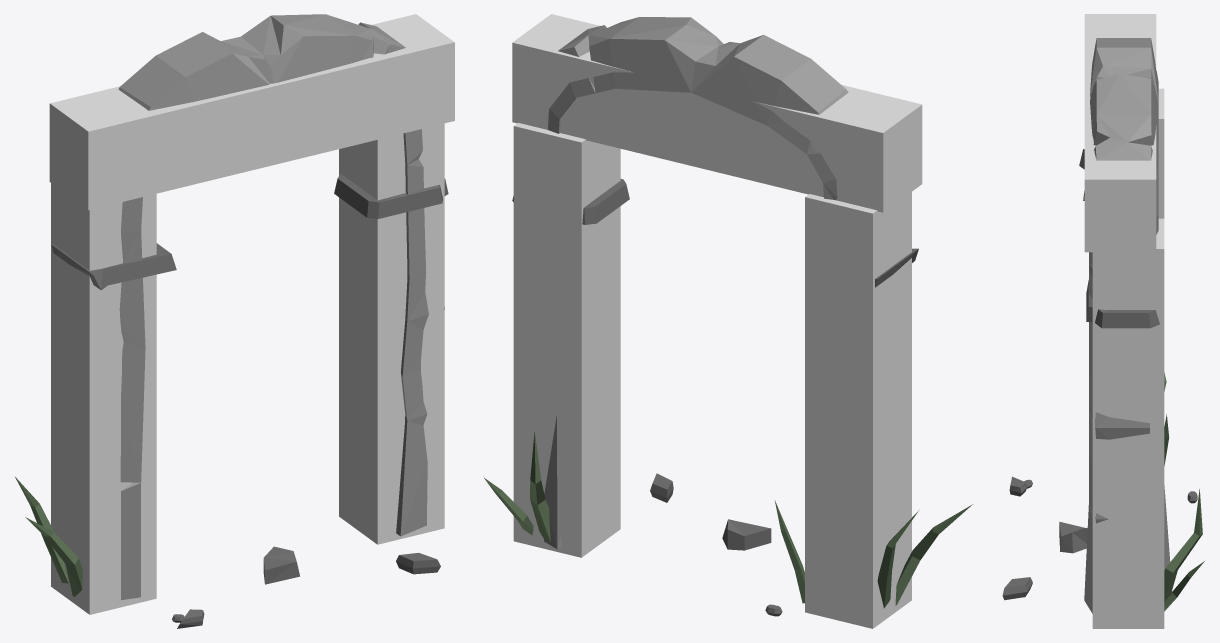
The model's file is ruin_1.glb.
3 renders of one model, left to right at view 1: azimuth 30°, elevation 25°; view 2: azimuth 150°, elevation 25°; view 3: azimuth 270°, elevation 25°, orthographic. The views are drawn at different scales.
Visible parts, largest first — view 1: ruin_1, Cube.002, Cube, Cube.001; view 2: Cube, Cube.001, Cube.002, ruin_1; view 3: Cube.001, ruin_1, Cube.002, Cube.
Boxes of the visible parts, x1,y1,x2,y2 form: ruin_1: (15,14,448,628); Cube.002: (49,14,454,210); Cube: (51,183,156,614); Cube.001: (339,123,444,544); Cube: (805,192,911,628); Cube.001: (513,123,620,557); Cube.002: (512,14,922,212); ruin_1: (484,17,972,616); Cube.001: (1092,218,1164,628); ruin_1: (1002,38,1204,613); Cube.002: (1084,14,1156,252); Cube: (1158,88,1164,218).
Bounding box in the file's own units: 2.59 × 3.06 × 1.15.
1 material, 1 textured.
